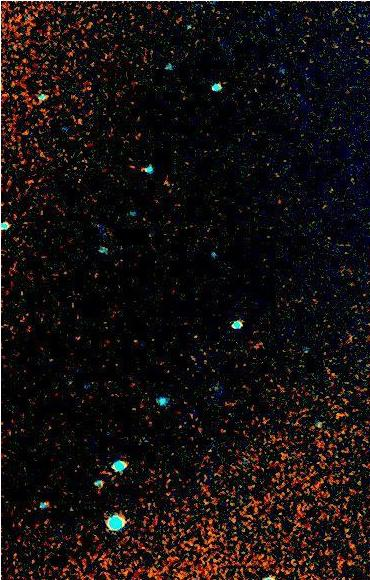star: (127, 152, 157, 182)
